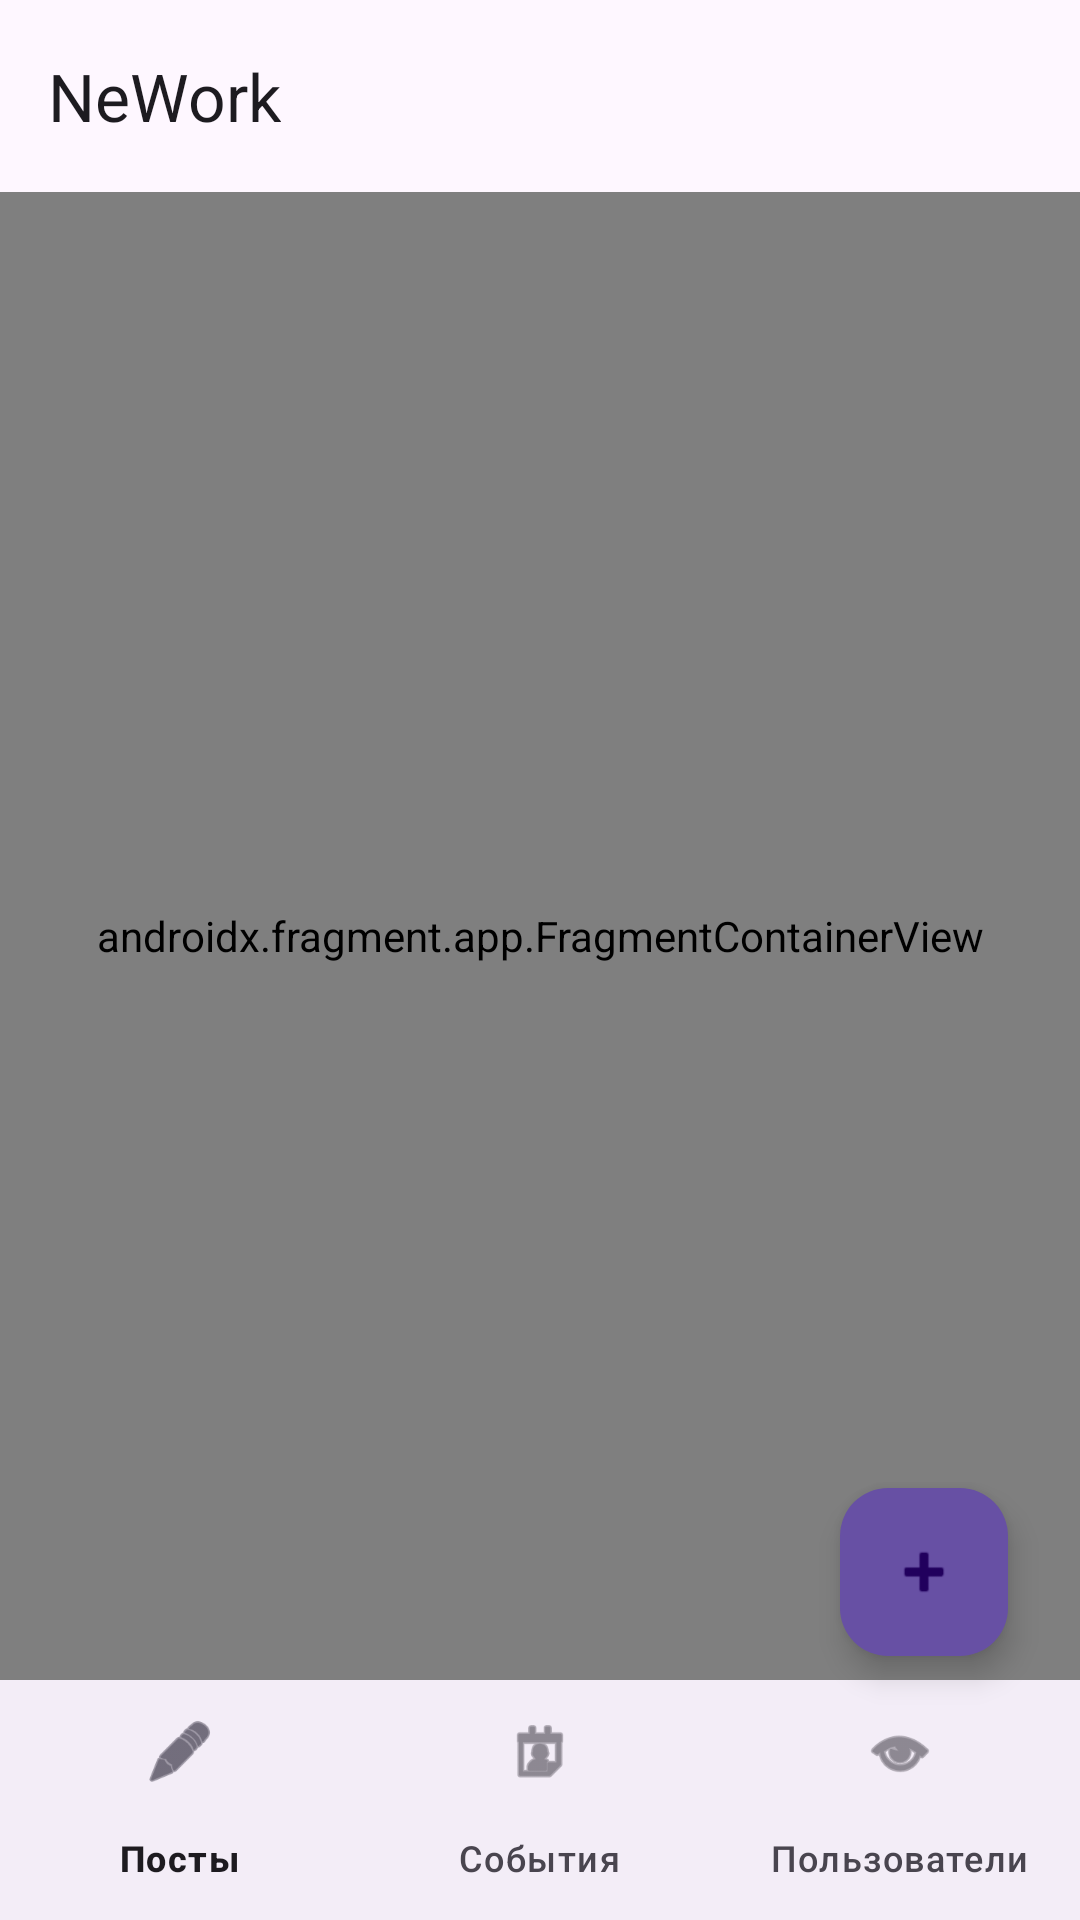

Icon click points for this 1080w x 1920h phone screenshot, format [x,y]:
Создать: [924,1572]
